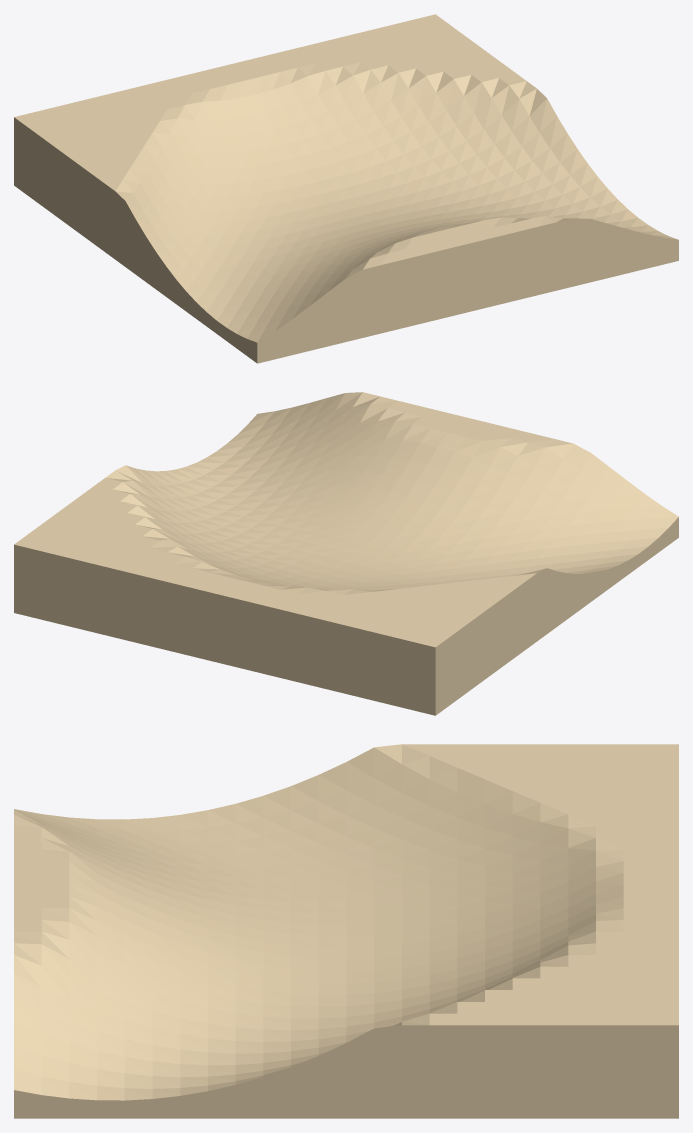
The model's file is desert-canyons-and-oases-wadi-bend-af1ede3d__20954.glb.
3 views of the same model, one above another, from view 1: azimuth 30°, elevation 25°; view 2: azimuth 150°, elevation 25°; view 3: azimuth 270°, elevation 25° (orthographic). The views are drawn at different scales.
Parts seen in each view (by area): view 1: wadi-bend; view 2: wadi-bend; view 3: wadi-bend.
Boxes of the visible parts, x1,y1,x2,y2 form: wadi-bend: (14, 14, 678, 363); wadi-bend: (14, 392, 678, 715); wadi-bend: (14, 744, 678, 1118).
Size of the model in its own units: 4 by 0.6201 by 4.
